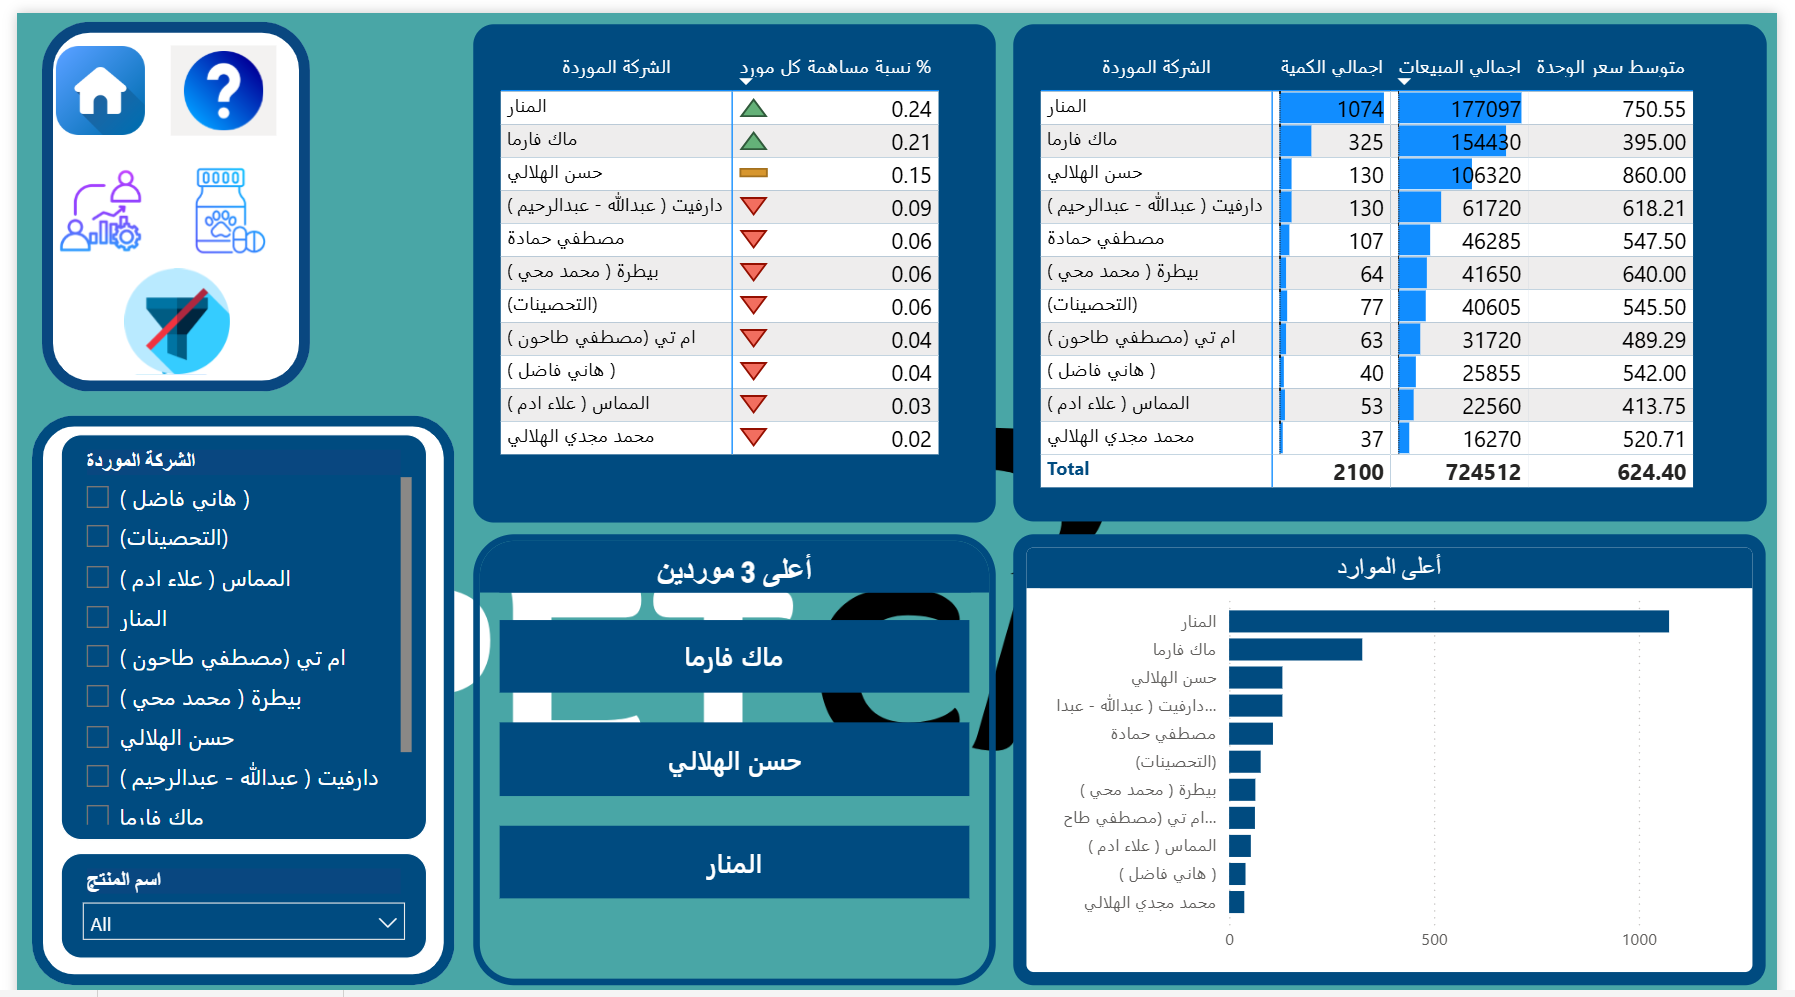

The page's visual inventory and layout, read from the dashboard file:
{"tool":"powerbi","page":{"name":"Supplier Analysis","canvas":[1280,720],"ordinal":2},"visuals":[{"type":"pivotTable","title":"أعلى الموارد","fields":{"Rows":["المخزون.الشركة الموردة "],"Values":["المخزون.اجمالي الكمية","المخزون.اجمالي المبيعات","المخزون.متوسط سعر الوحدة"]},"box":[724.4,8.1,547.7,361.6],"z":0},{"type":"barChart","title":"أعلى الموارد","fields":{"Category":["المخزون.الشركة الموردة "],"Y":["المخزون.اجمالي الكمية"]},"box":[724.5,378.7,547.5,328],"z":1000},{"type":"cardVisual","title":"أعلى 3 موردين","fields":{"Rows":["المخزون.الشركة الموردة "]},"box":[332.1,378.7,380.1,328],"z":2000},{"type":"pivotTable","title":"أعلى الموارد","fields":{"Rows":["المخزون.الشركة الموردة "],"Values":["المخزون.نسبة مساهمة كل مورد %"]},"box":[332.1,8.2,380.1,362.3],"z":3000},{"type":"shape","box":[18.2,6.2,194.9,269],"z":4000},{"type":"actionButton","title":"Home Button","box":[22.6,20,75.5,72.7],"z":5000},{"type":"actionButton","box":[111.8,24.1,76.8,65.9],"z":6000},{"type":"actionButton","title":"Filter Button","box":[67.5,202.6,90,64.1],"z":7000},{"type":"actionButton","title":"Filter Button","box":[63.7,181.8,105.6,84.8],"z":8000},{"type":"actionButton","title":"Home Button","box":[22.6,107.8,75.5,71.4],"z":9000},{"type":"actionButton","title":"Home Button","box":[115.9,107.8,78.2,71.4],"z":10000},{"type":"shape","box":[11,292.3,307.4,414.4],"z":11000},{"type":"slicer","fields":{"Values":["المخزون.الشركة الموردة "]},"box":[31.6,306,266.2,295],"z":12000},{"type":"slicer","fields":{"Values":["المخزون.اسم المنتج"]},"box":[31.6,610.6,266.2,76.8],"z":13000}]}

Visuals, with their boxes in screenshot pixels (x1, y1, x2, y2), scaled from the page's 1280x720 canvas onto the 1795x997 screenshot:
"أعلى الموارد" pivotTable: left=1016, top=11, right=1784, bottom=512
"أعلى الموارد" barChart: left=1016, top=524, right=1784, bottom=979
"أعلى 3 موردين" cardVisual: left=466, top=524, right=999, bottom=979
"أعلى الموارد" pivotTable: left=466, top=11, right=999, bottom=513
shape: left=26, top=9, right=299, bottom=381
"Home Button" actionButton: left=32, top=28, right=138, bottom=128
actionButton: left=157, top=33, right=264, bottom=125
"Filter Button" actionButton: left=95, top=281, right=221, bottom=369
"Filter Button" actionButton: left=89, top=252, right=237, bottom=369
"Home Button" actionButton: left=32, top=149, right=138, bottom=248
"Home Button" actionButton: left=163, top=149, right=272, bottom=248
shape: left=15, top=405, right=447, bottom=979
slicer - المخزون.الشركة الموردة : left=44, top=424, right=418, bottom=832
slicer - المخزون.اسم المنتج: left=44, top=846, right=418, bottom=952
